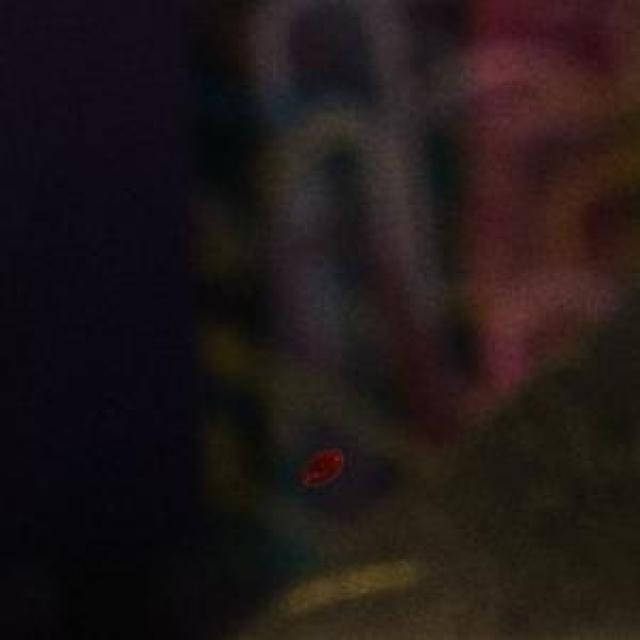Medicol: (290, 436, 350, 506)
